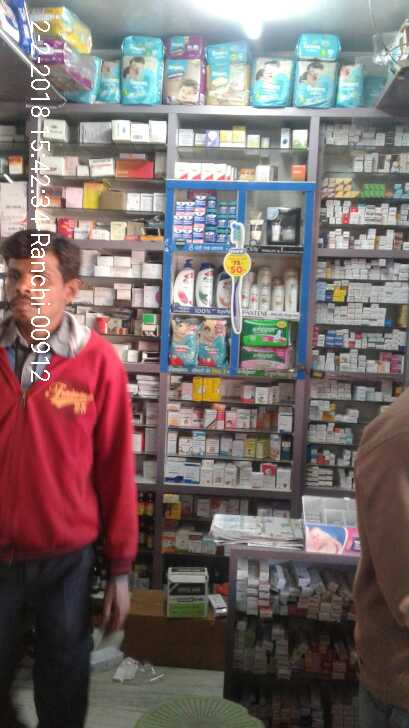beauty: (246, 255, 300, 318), (170, 254, 194, 308), (243, 201, 268, 248), (194, 257, 211, 306), (216, 270, 231, 306)
pharmacy: (173, 190, 238, 243), (237, 346, 297, 373), (168, 314, 200, 364), (240, 313, 295, 342), (197, 313, 223, 366)
